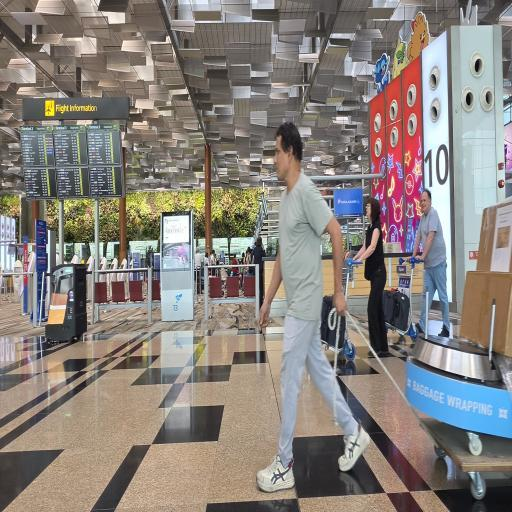person_left: (248, 112, 348, 496)
person_with_luggage_left: (384, 188, 452, 334), (322, 200, 386, 352)
